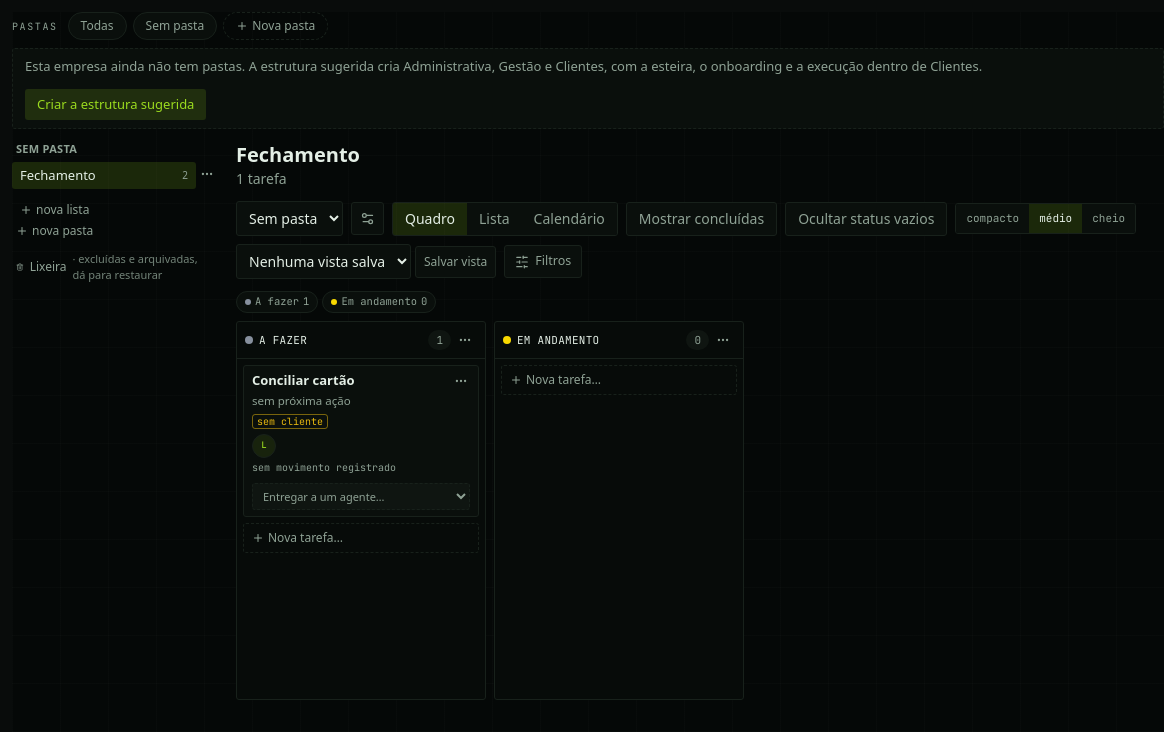
Scenario: A4: entregar a tarefa passa pelo CHECKOUT, não por edição de campo › o 409 aparece COMO VEIO, com o nome de quem ficou com a tarefa
Select "Analista de dados" in the dropdown named "Entregar a um agente" at {"x": 361, "y": 496}, box 252,482 -> 470,510
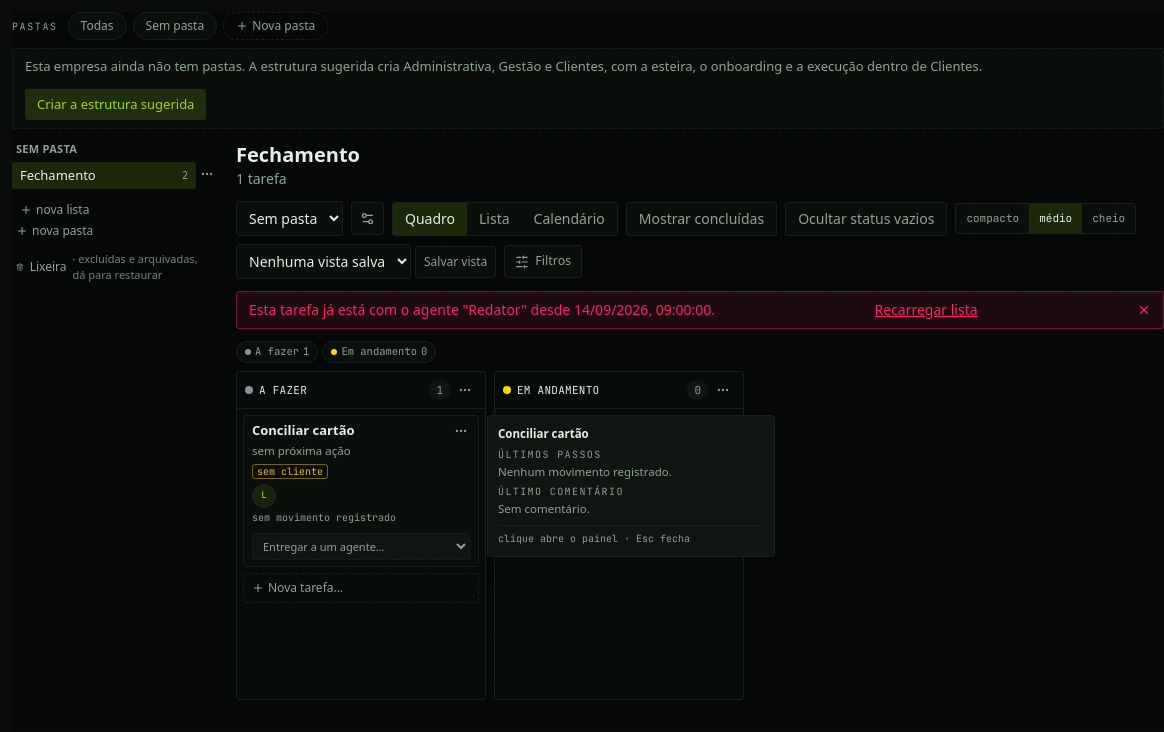
Expected: the text "já está com o agente \"Redator\"" is shown, 249,300 -> 715,319
